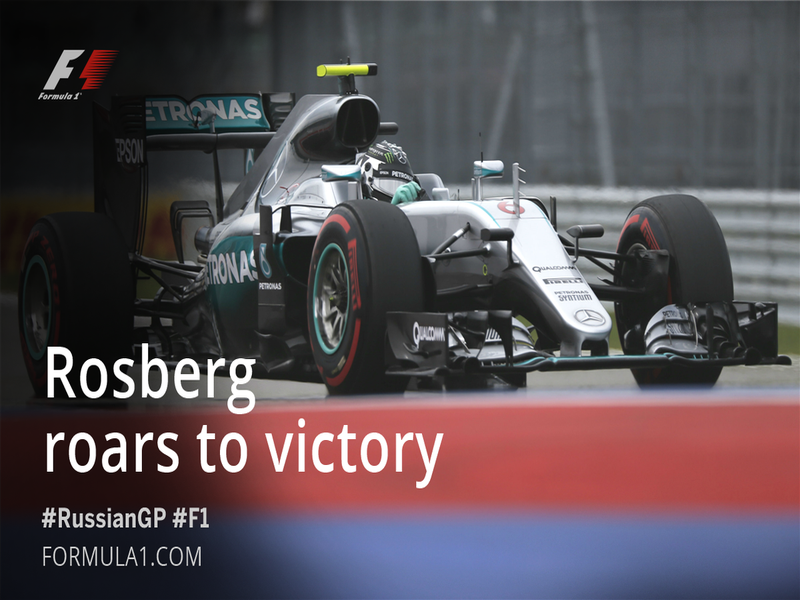f1: (115, 73, 781, 391)
